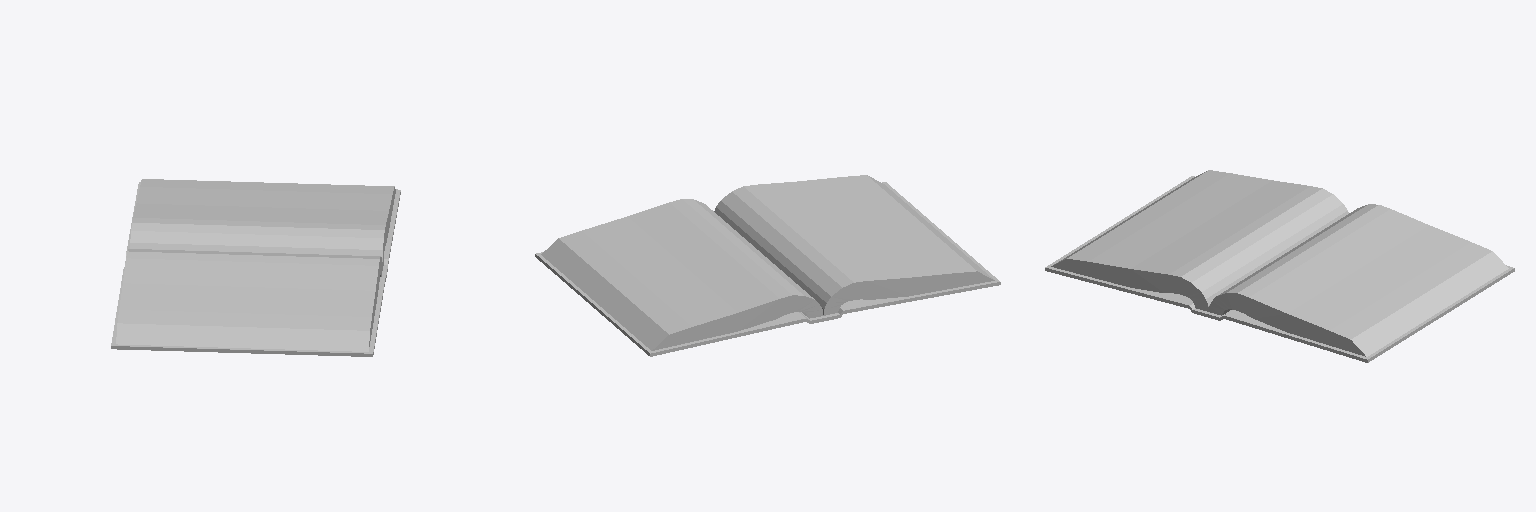
The model's file is book_open_01.obj.
3 views of the same model, side by side, from view 1: azimuth 30°, elevation 25°; view 2: azimuth 150°, elevation 25°; view 3: azimuth 270°, elevation 25° (orthographic).
Visible parts, largest first — view 1: book_open_01_book_01_open; view 2: book_open_01_book_01_open; view 3: book_open_01_book_01_open.
Boxes of the visible parts, x1,y1,x2,y2 form: book_open_01_book_01_open: [111, 179, 400, 356]; book_open_01_book_01_open: [535, 175, 1000, 356]; book_open_01_book_01_open: [1045, 170, 1514, 362].
Size of the model in its own units: 0.4056 by 0.0313 by 0.4372.